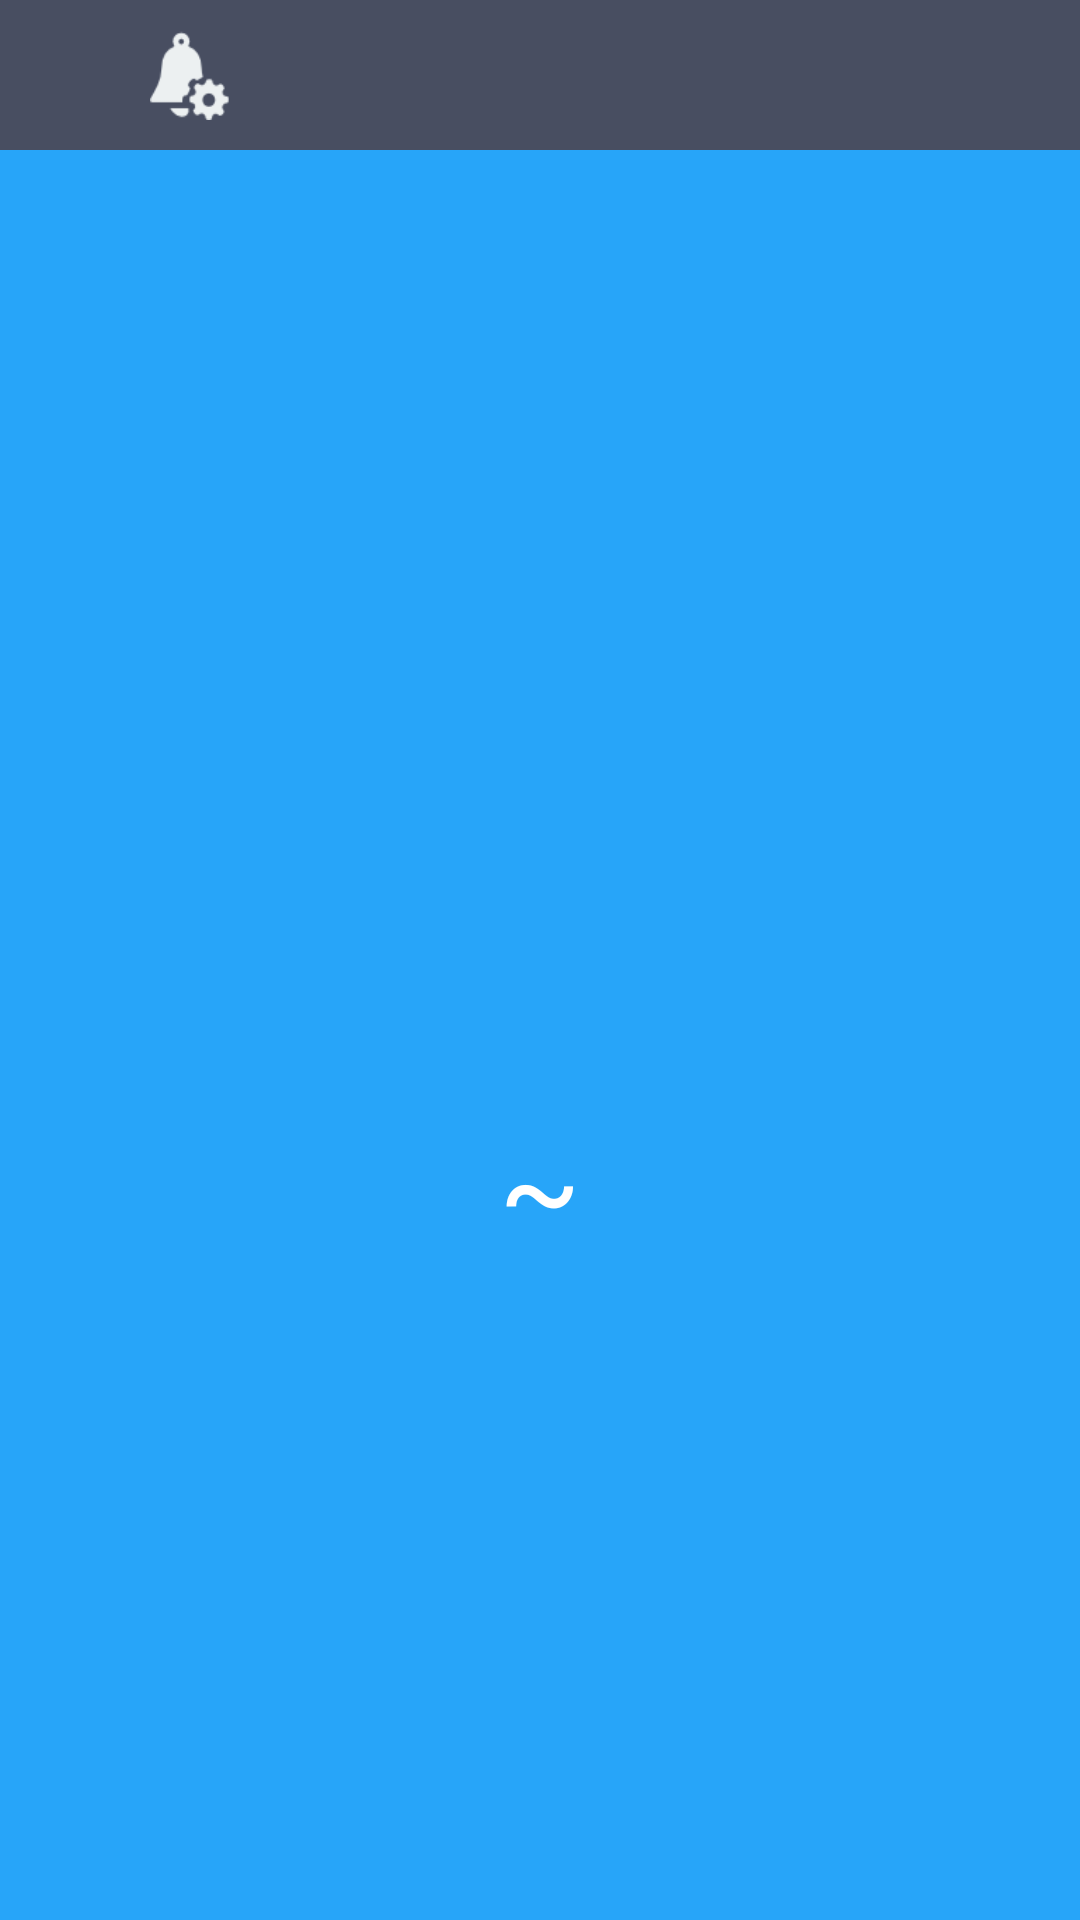

Where to tap for icons on this 1080px x 1920px app screen, as point (x, y):
set clock: point (189, 76)
